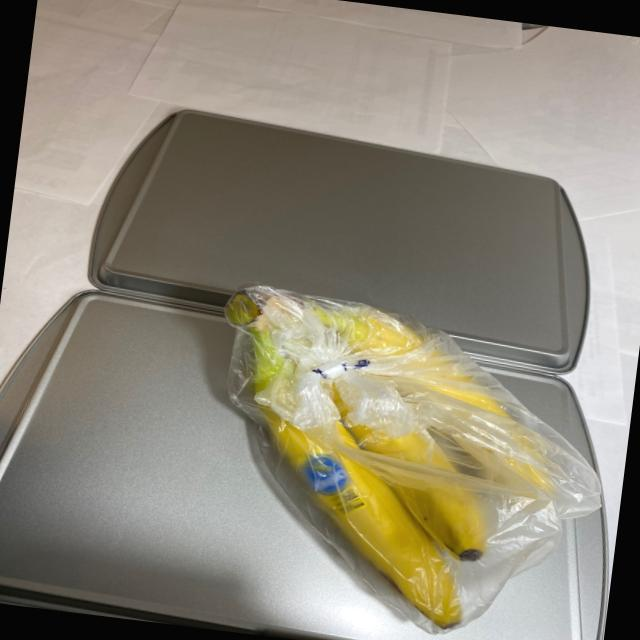banana: (174, 275, 601, 640)
